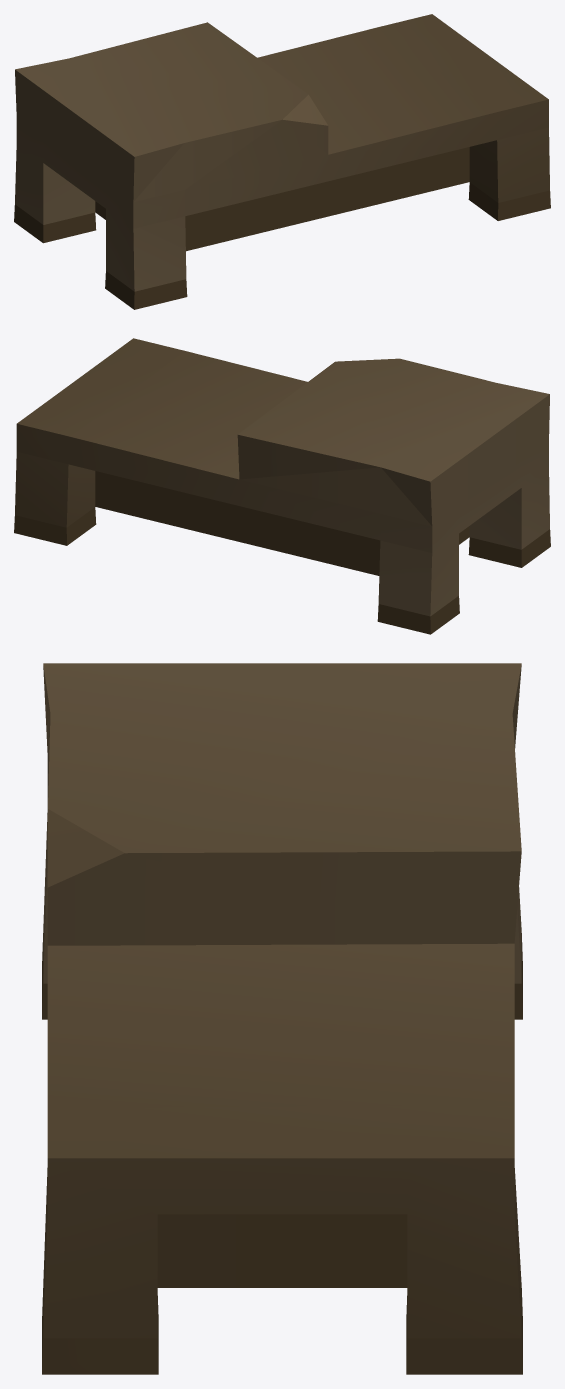
Rendered from MarketStall_Table_SideTiered.fbx.
3 views of the same model, one above another, from view 1: azimuth 30°, elevation 25°; view 2: azimuth 150°, elevation 25°; view 3: azimuth 270°, elevation 25° (orthographic). The views are drawn at different scales.
Parts seen in each view (by area): view 1: MarketStall_Table_SideTiered; view 2: MarketStall_Table_SideTiered; view 3: MarketStall_Table_SideTiered.
Boxes of the visible parts, <box> form: MarketStall_Table_SideTiered: <box>14,14,550,309</box>; MarketStall_Table_SideTiered: <box>14,338,550,634</box>; MarketStall_Table_SideTiered: <box>42,663,522,1374</box>.
Size of the model in its own units: 2 by 0.7 by 1.
Materials: 1 (1 with a texture image).
